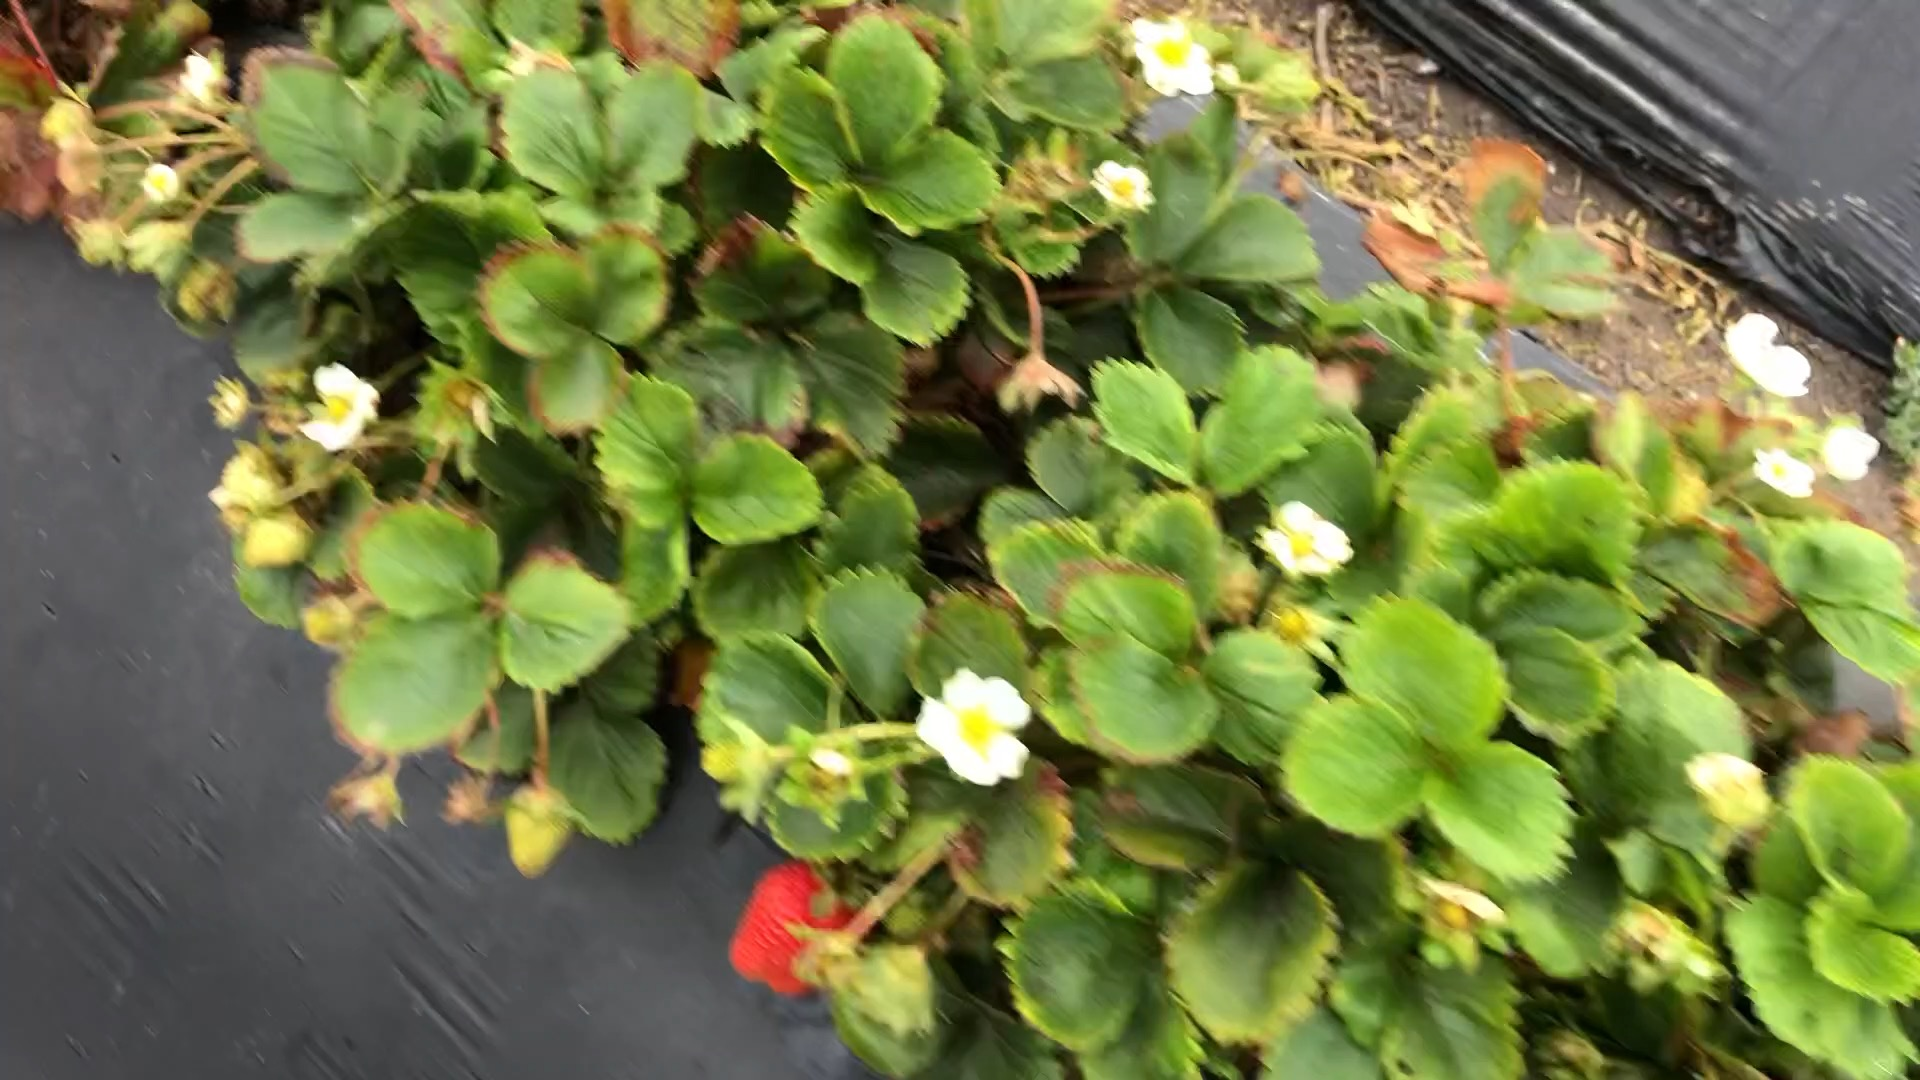ripe_strawberry: (727, 855, 861, 1000)
unripe_strawberry: (505, 775, 582, 882), (237, 502, 318, 575), (702, 732, 767, 790), (306, 603, 349, 644)
